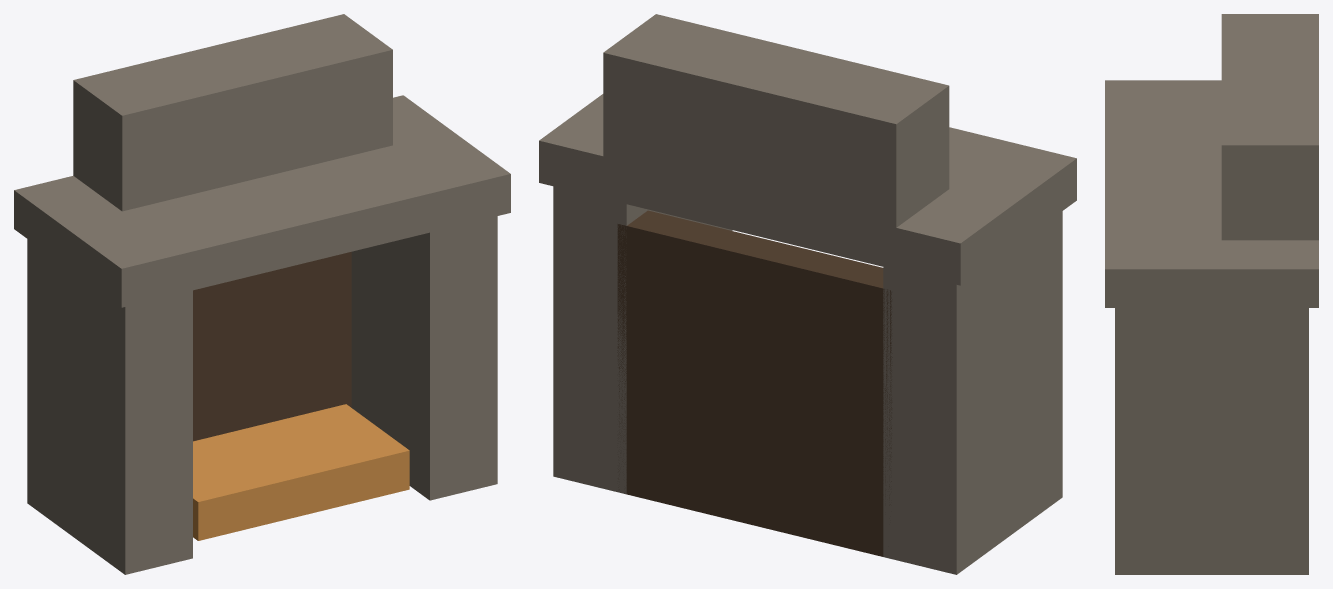
Rendered from room_hearth.glb.
The picture shows the model from 3 angles, left to right: view 1: azimuth 30°, elevation 25°; view 2: azimuth 150°, elevation 25°; view 3: azimuth 270°, elevation 25°; orthographic projection. The views are drawn at different scales.
Parts seen in each view (by area): view 1: mantel, pillar, chimney, pillar.001, back.001, embers; view 2: back.001, chimney, pillar, mantel, pillar.001; view 3: pillar.001, mantel, chimney.
Part boxes in pixels (x1=…): mantel: x1=14, y1=95, x2=510, y2=307; pillar: x1=27, y1=239, x2=192, y2=574; chimney: x1=73, y1=14, x2=392, y2=211; pillar.001: x1=351, y1=216, x2=497, y2=500; back.001: x1=193, y1=252, x2=351, y2=441; embers: x1=193, y1=404, x2=409, y2=540; back.001: x1=617, y1=210, x2=892, y2=556; chimney: x1=603, y1=14, x2=949, y2=238; pillar: x1=883, y1=211, x2=1062, y2=574; mantel: x1=539, y1=94, x2=1076, y2=285; pillar.001: x1=553, y1=186, x2=732, y2=494; pillar.001: x1=1115, y1=308, x2=1308, y2=574; mantel: x1=1105, y1=80, x2=1318, y2=307; chimney: x1=1221, y1=14, x2=1318, y2=240.
Bounding box in the file's own units: 2.3 × 2.3 × 1.1.
